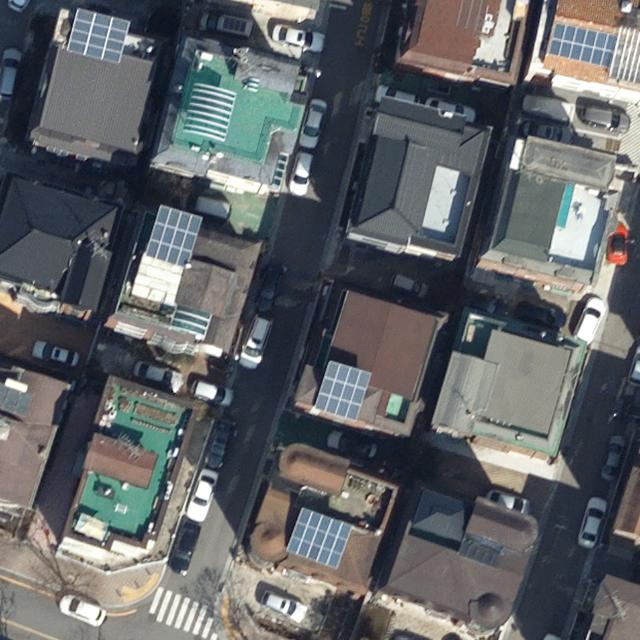panel: (283, 506, 356, 573), (63, 5, 134, 65), (311, 357, 373, 424), (145, 202, 204, 267), (547, 21, 619, 69)
